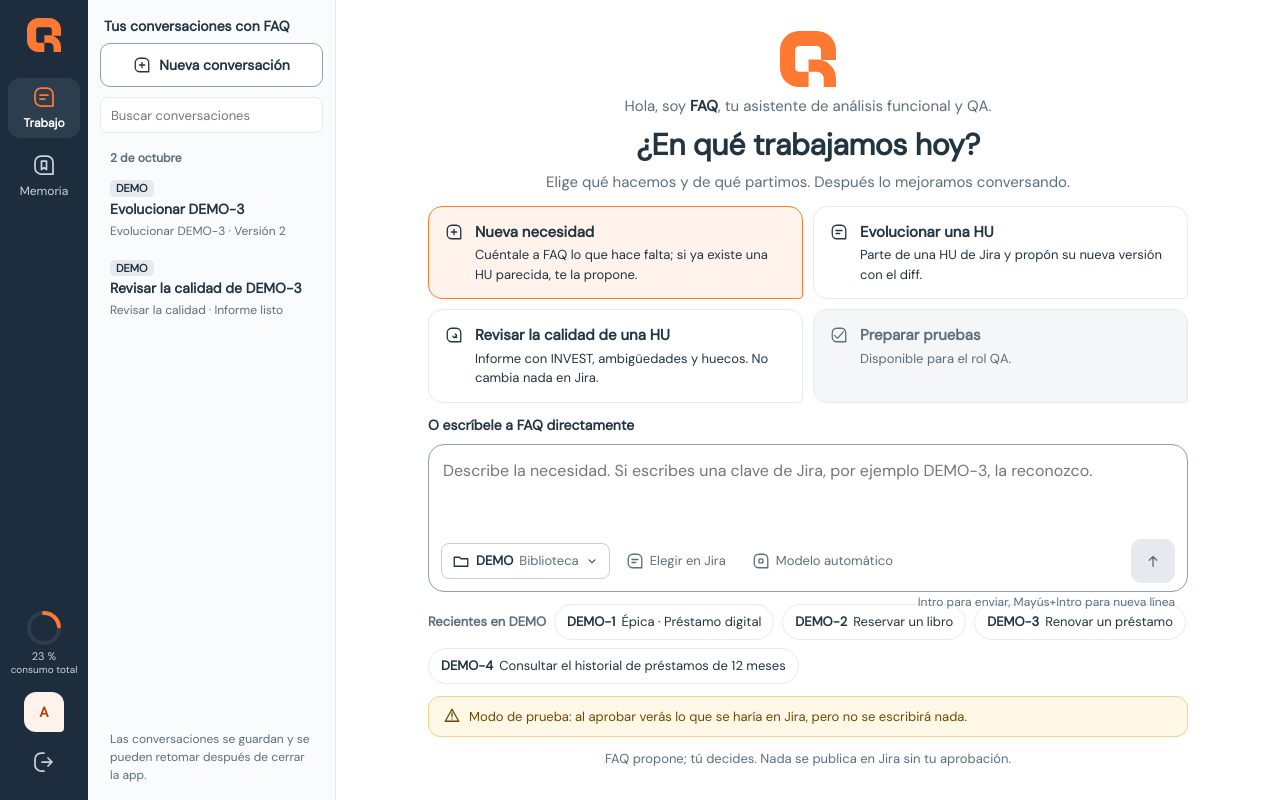
Test: Origen y fuentes · «Generar» falla antes de que llegue la lista (revisión de web/) › si POST /conversations falla, la lista abortada se vuelve a pedir y el panel recupera fuentes y presupuesto
Expected: the button with aria-label "Proyecto de Jira: DEMO" is shown, [441, 543, 610, 579]
Step 1. Type "Renovar un préstamo desde la app" into the text box → coordinates (808, 495), box [441, 457, 1175, 533]
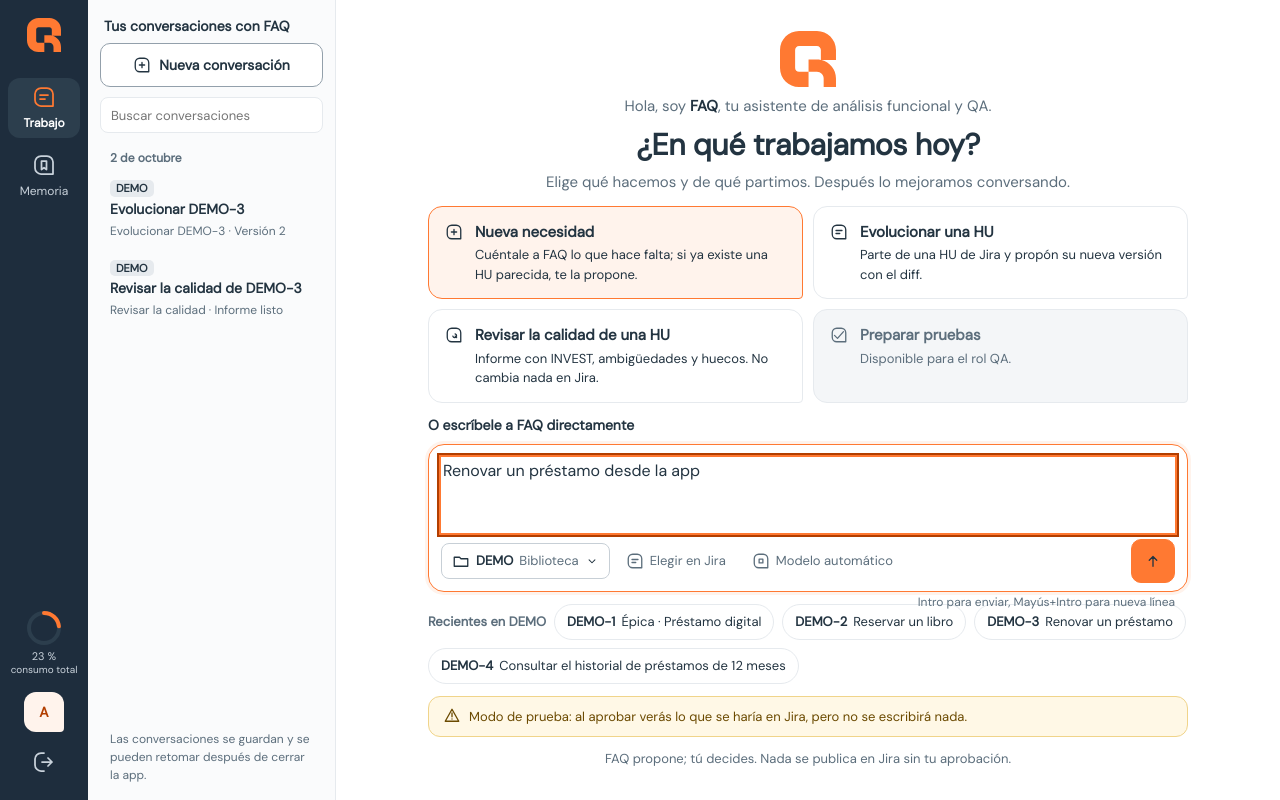
Step 2. Click the button named "Continuar" → coordinates (1153, 561), box [1131, 539, 1175, 583]
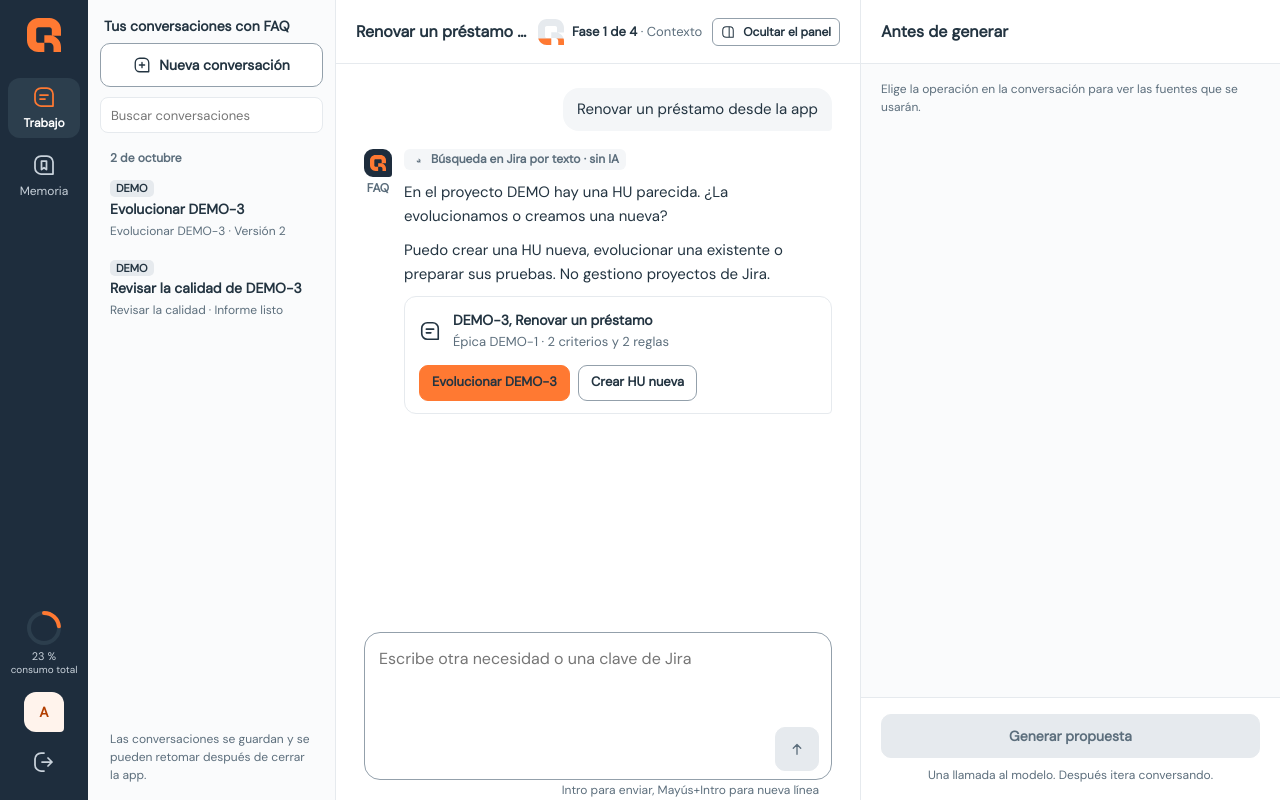
Step 3. Click the button "Evolucionar DEMO-3" → coordinates (494, 383), box [419, 365, 570, 401]
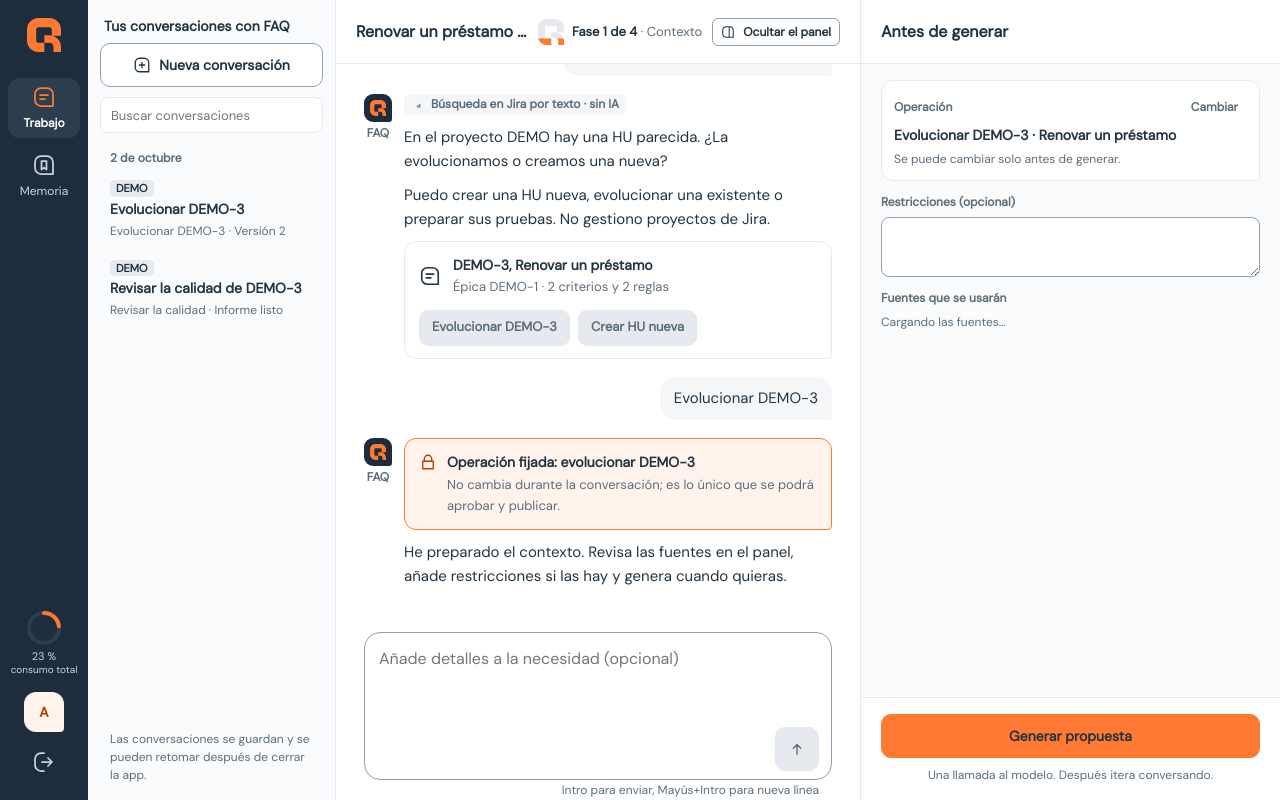
Step 4. Click the button "Generar propuesta" → coordinates (1070, 736), box [881, 714, 1260, 758]
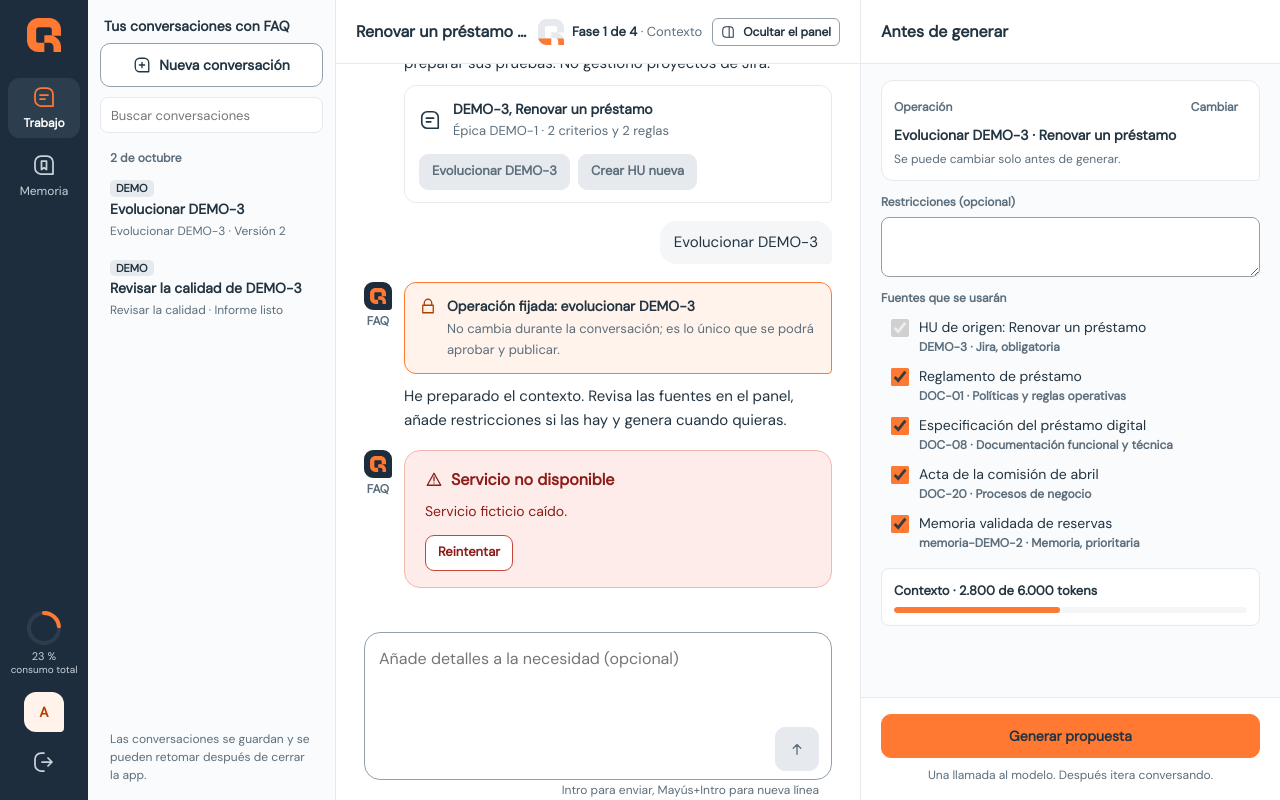
Expected: the text "Servicio ficticio caído." is shown, [425, 500, 567, 523]
Expected: the checkbox labelled "HU de origen: Renovar un préstamo DEMO-3 · Jira, obligatoria" is disabled, [891, 319, 909, 337]
Expected: the text "Contexto · 2.800 de 6.000 tokens" is shown, [894, 582, 1097, 599]
